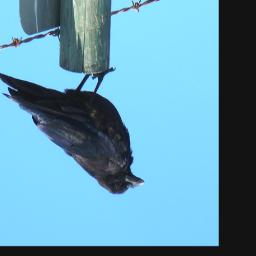Crow: (0, 66, 147, 196)
